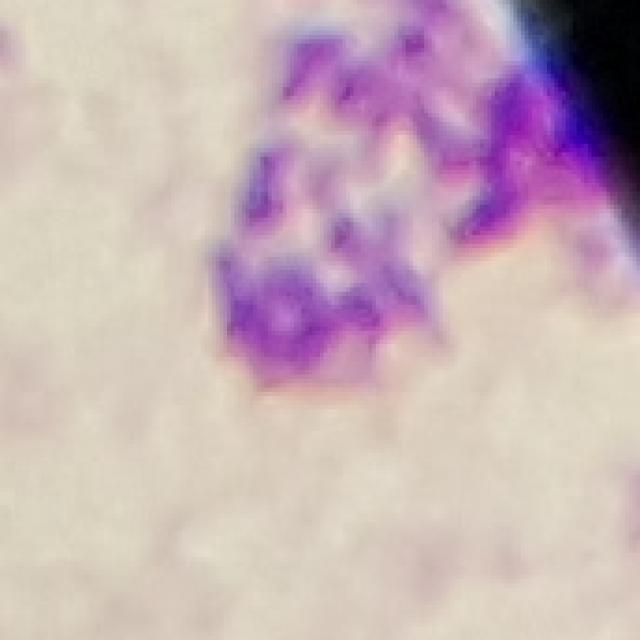non-sperm: (212, 27, 575, 386)
